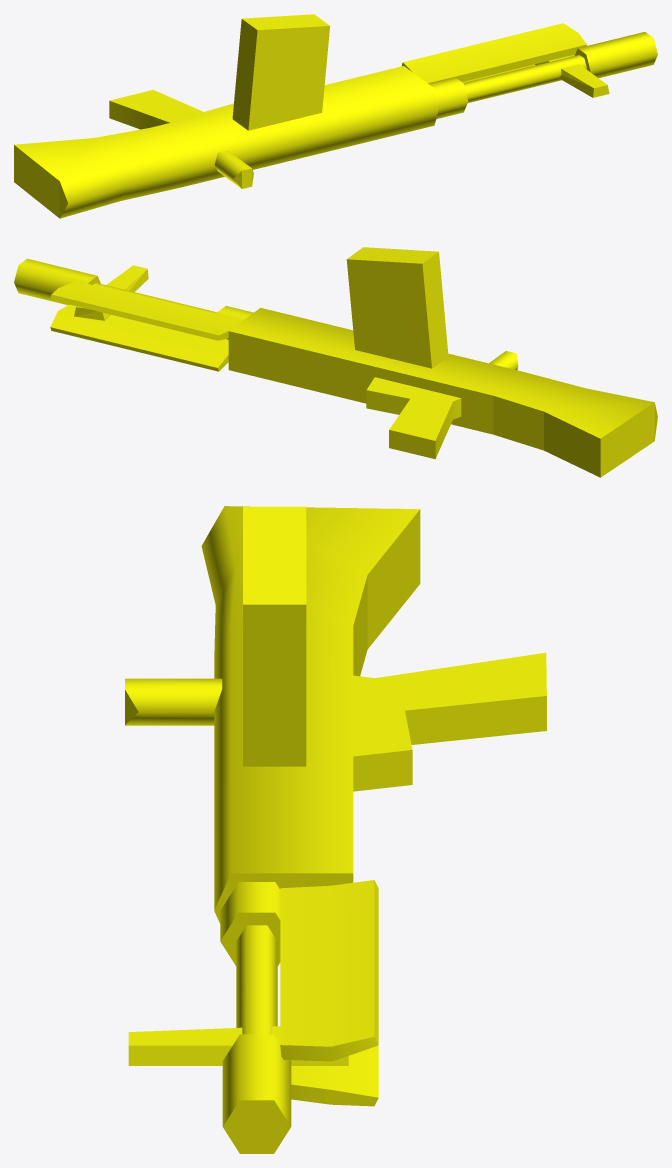
Rendered from weapon_fg42.glb.
The picture shows the model from 3 angles, top to bottom: view 1: azimuth 30°, elevation 25°; view 2: azimuth 150°, elevation 25°; view 3: azimuth 270°, elevation 25°; orthographic projection. The views are drawn at different scales.
Parts seen in each view (by area): view 1: weapon_fg42; view 2: weapon_fg42; view 3: weapon_fg42.
Boxes of the visible parts, x1,y1,x2,y2 form: weapon_fg42: [14, 14, 657, 218]; weapon_fg42: [14, 247, 657, 477]; weapon_fg42: [125, 506, 546, 1153].
Size of the model in its own units: 1.59 by 0.3451 by 0.4859.
1 material, 1 textured.
